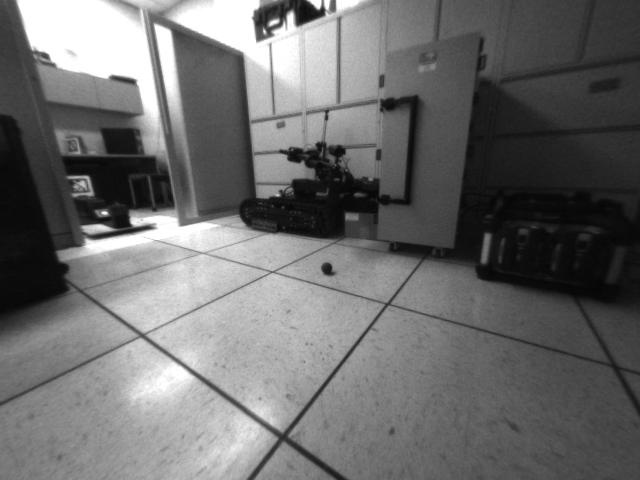dogtoy: (315, 257, 340, 280)
